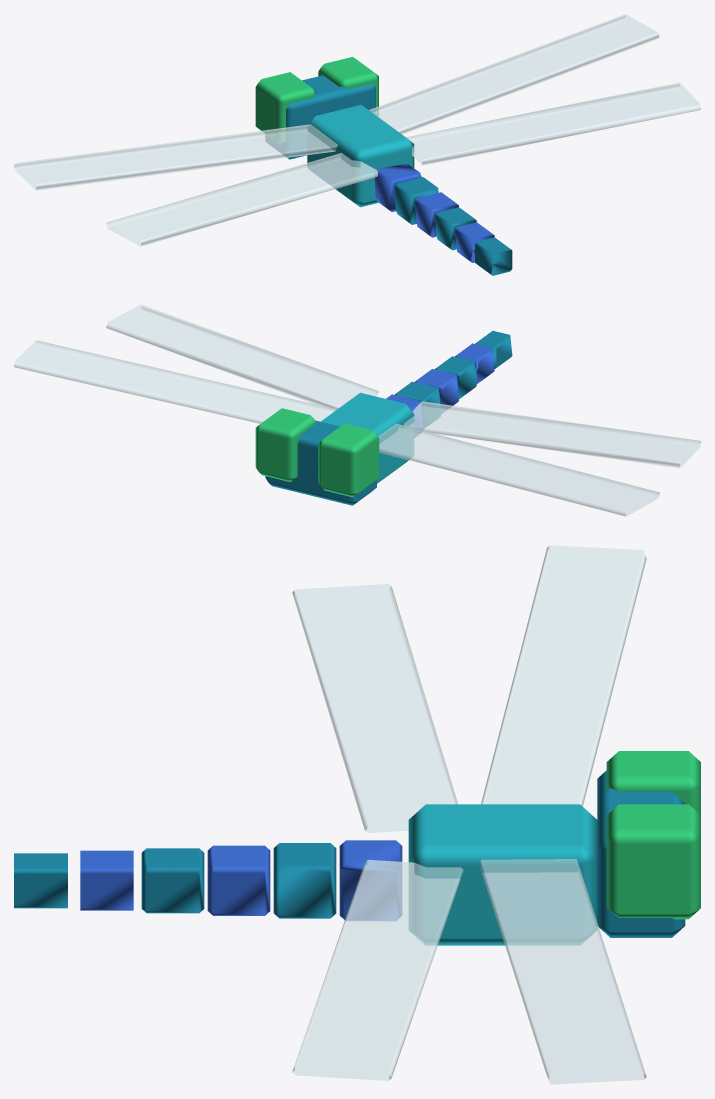
The model's file is dragonfly-assetquest_de6jep5Fq5-blocky_lod2.glb.
The picture shows the model from 3 angles, top to bottom: view 1: azimuth 30°, elevation 25°; view 2: azimuth 150°, elevation 25°; view 3: azimuth 270°, elevation 25°; orthographic projection. The views are drawn at different scales.
Visible parts, largest first — view 1: Dragonfly_3; view 2: Dragonfly_3; view 3: Dragonfly_3.
Part boxes in pixels (x1,y1,x2,y2): Dragonfly_3: (14, 14, 700, 275); Dragonfly_3: (14, 304, 700, 516); Dragonfly_3: (14, 545, 700, 1084).
Bounding box in the file's own units: 0.2386 × 0.0288 × 0.1311.
2 materials, 1 textured.
